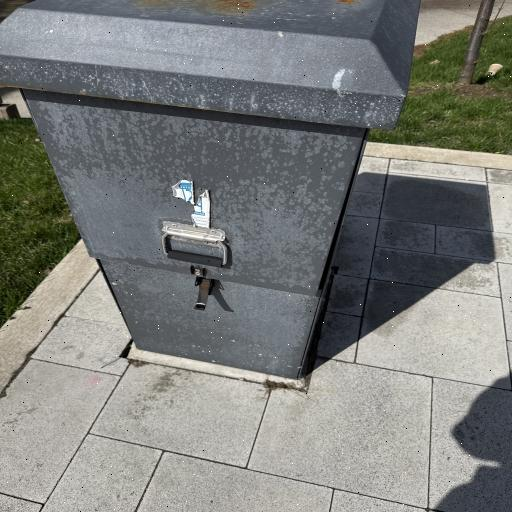Electrical Box: (1, 0, 424, 378)
